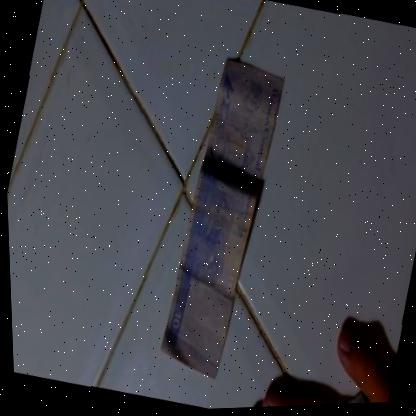vef_back: (144, 55, 296, 386)
